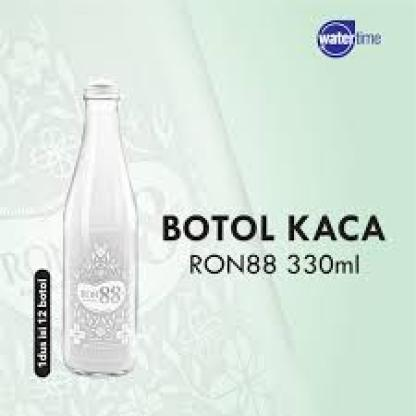Glass Bottle: (60, 80, 142, 380)
